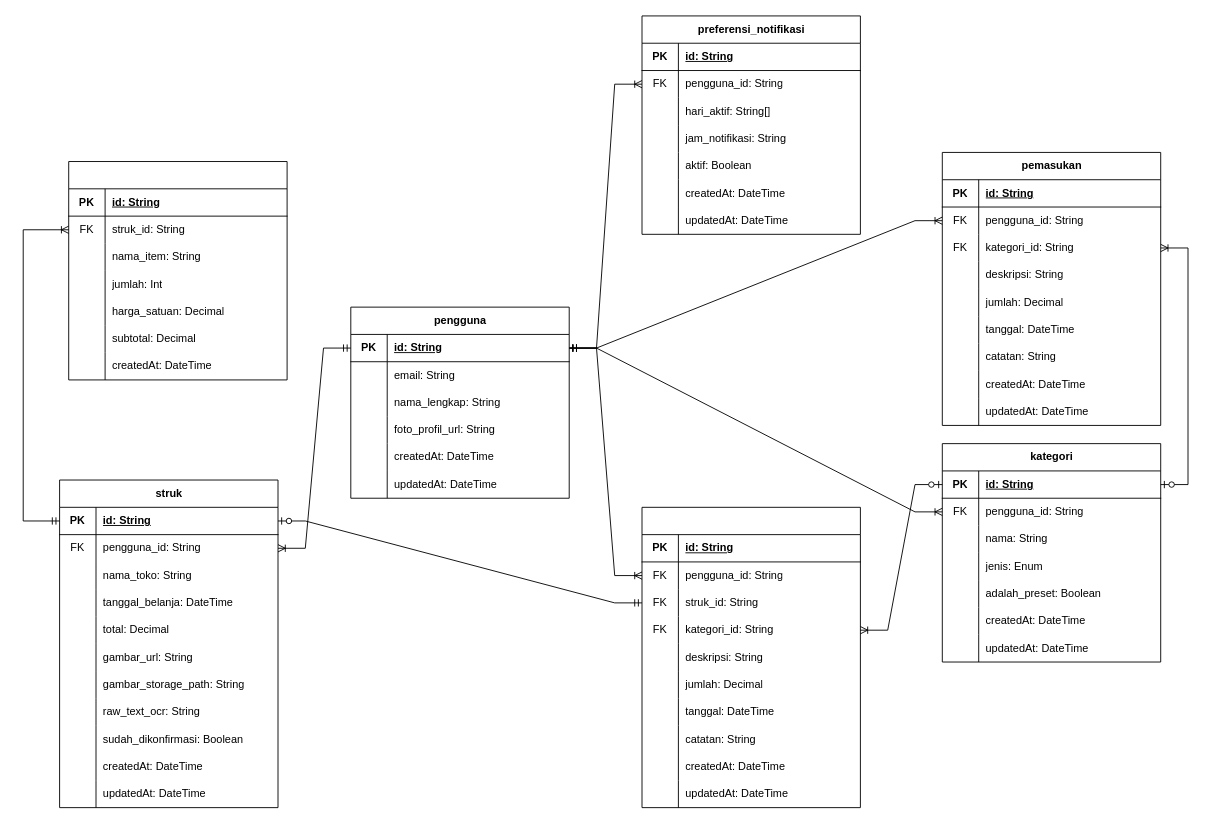
Some shapes in this 1212 by 824 pixel diagram are drawn without their labels. Each missing label, with the box of its shape:
item_struk: (68, 161, 287, 380)
pengeluaran: (641, 506, 860, 808)
